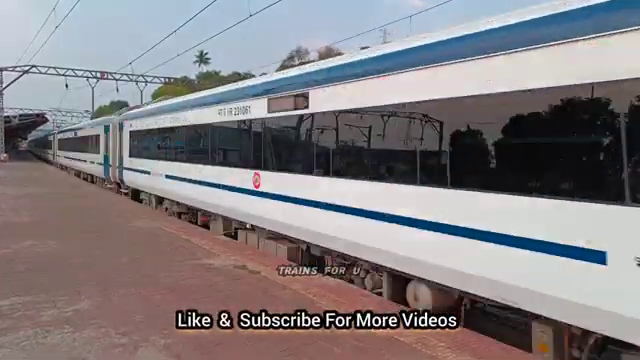Boogie: (227, 103, 256, 117)
